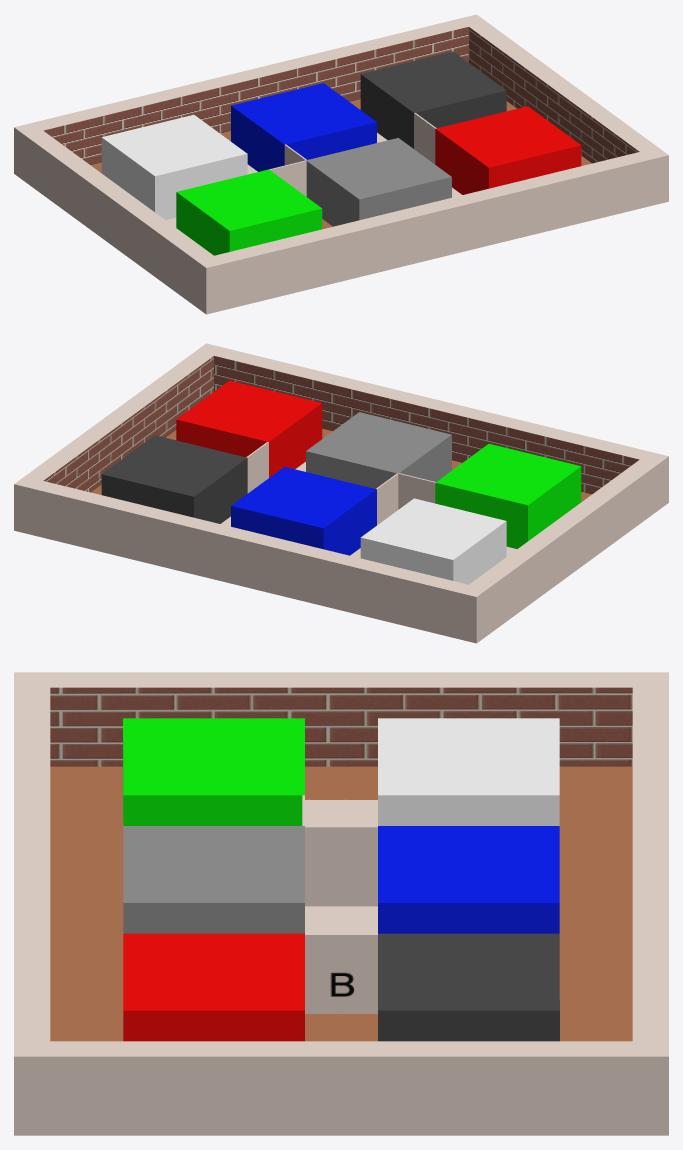
Rendered from maze_test7c1.dae.
3 views of the same model, one above another, from view 1: azimuth 30°, elevation 25°; view 2: azimuth 150°, elevation 25°; view 3: azimuth 270°, elevation 25° (orthographic). The views are drawn at different scales.
Parts seen in each view (by area): view 1: Plane; view 2: Plane; view 3: Plane.
Boxes of the visible parts, bbox=[...] form: Plane: bbox=[14, 14, 668, 314]; Plane: bbox=[14, 343, 668, 643]; Plane: bbox=[14, 672, 668, 1135].
Size of the model in its own units: 15.63 by 11.25 by 1.5.
Materials: 1 (1 with a texture image).
